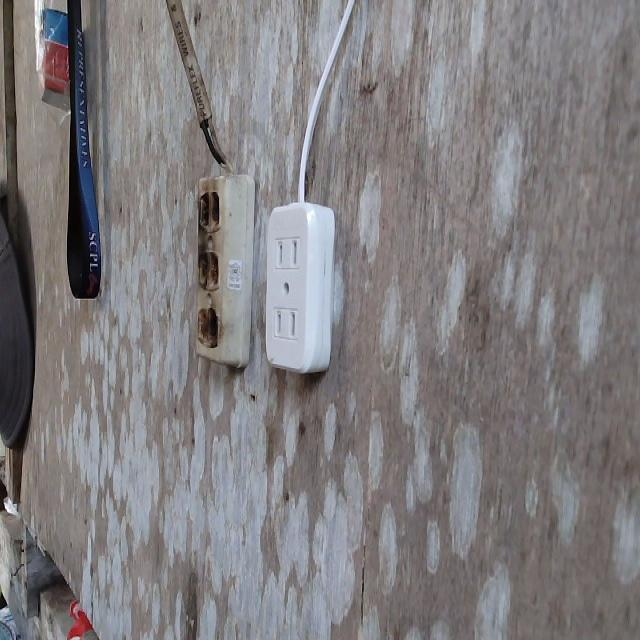-: (193, 188, 222, 355)
